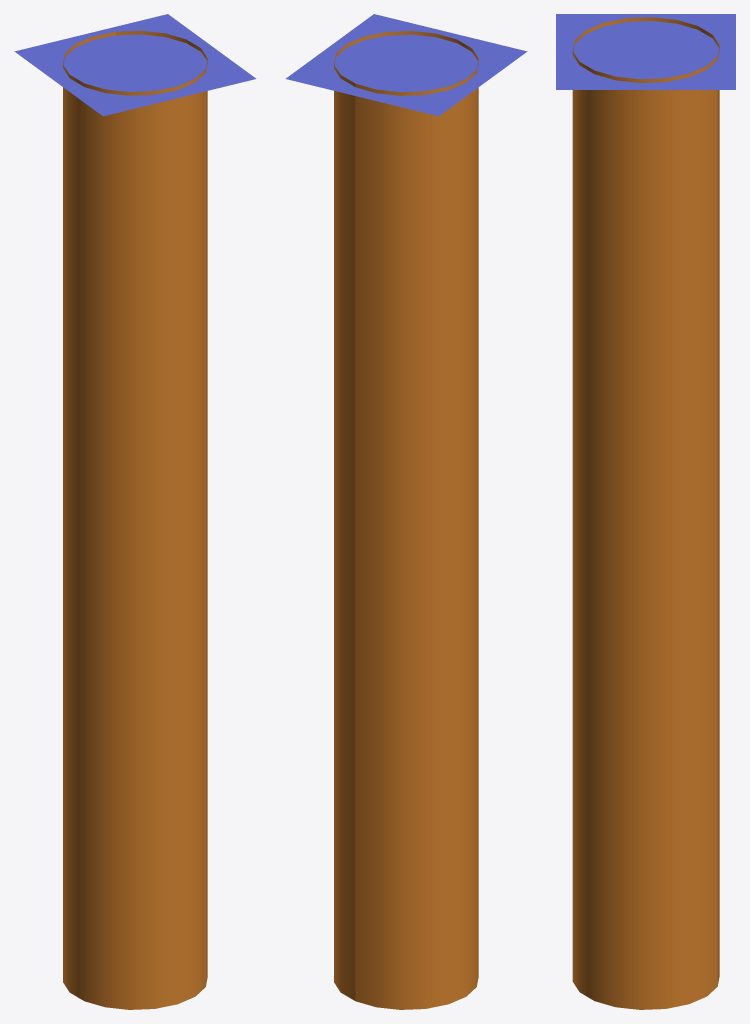
Rendered from gravlift2.fbx.
3 views of the same model, side by side, from view 1: azimuth 30°, elevation 25°; view 2: azimuth 150°, elevation 25°; view 3: azimuth 270°, elevation 25° (orthographic).
Visible parts, largest first — view 1: gravlift2; view 2: gravlift2; view 3: gravlift2.
Part boxes in pixels (x1,y1,x2,y2): gravlift2: [14, 14, 256, 1009]; gravlift2: [285, 14, 527, 1009]; gravlift2: [556, 14, 735, 1009].
Size of the model in its own units: 60499 by 345364 by 60500.
